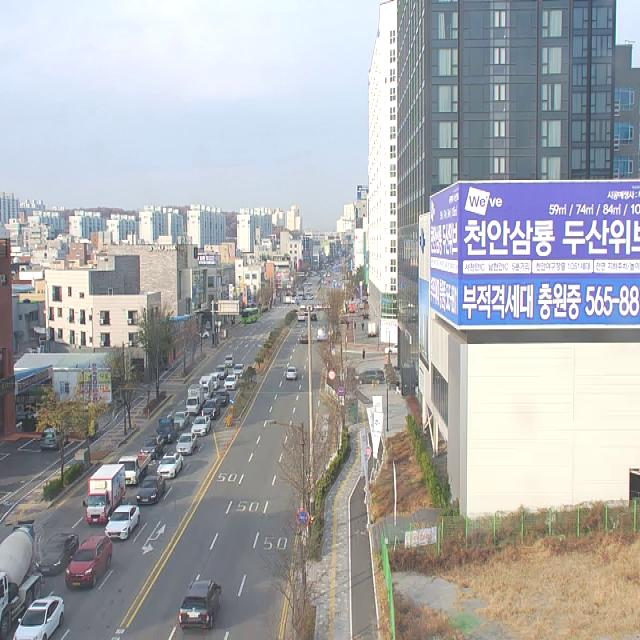Bus: (241, 307, 258, 323)
Car: (64, 535, 112, 589), (83, 464, 125, 524), (12, 596, 64, 640), (178, 580, 222, 631), (36, 533, 78, 575), (105, 506, 140, 540), (118, 454, 151, 486), (136, 475, 165, 505), (157, 453, 183, 479), (40, 427, 66, 451), (185, 384, 204, 414), (156, 418, 178, 443), (140, 436, 163, 459), (355, 368, 385, 384), (176, 434, 197, 455), (191, 416, 211, 436), (202, 399, 220, 418), (199, 376, 213, 400), (214, 390, 230, 407), (173, 411, 189, 428), (224, 374, 238, 390), (208, 373, 220, 390), (368, 319, 379, 336), (232, 364, 245, 378), (286, 366, 298, 380), (215, 366, 228, 378), (317, 328, 327, 342), (224, 354, 234, 367)
Truck: (0, 519, 42, 639)
